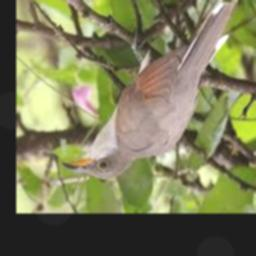Cuckoo: (62, 0, 238, 180)
